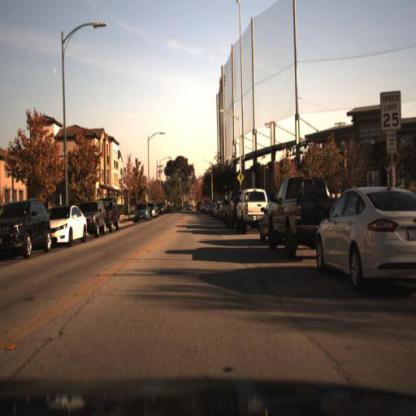car: (314, 184, 416, 287), (266, 171, 342, 261), (0, 194, 54, 264), (233, 186, 271, 236), (50, 203, 86, 246), (80, 200, 107, 240), (223, 187, 240, 231), (105, 195, 121, 230), (131, 200, 151, 223), (148, 201, 156, 221)
